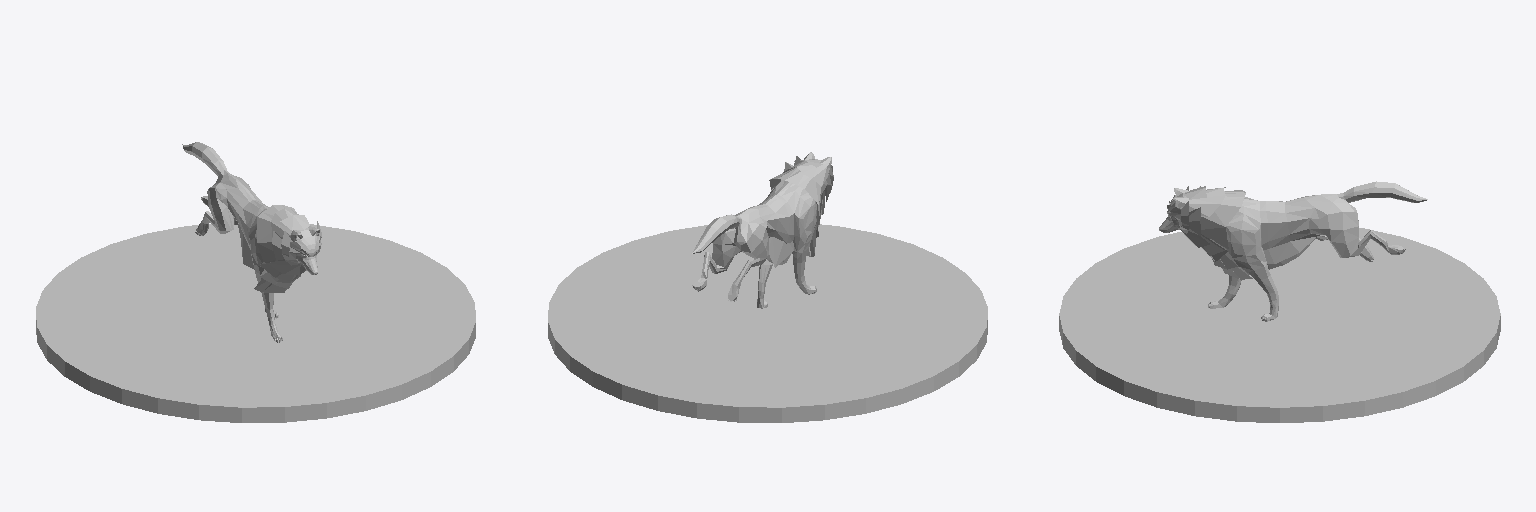
The model's file is Wolf_0002.obj.
3 views of the same model, side by side, from view 1: azimuth 30°, elevation 25°; view 2: azimuth 150°, elevation 25°; view 3: azimuth 270°, elevation 25° (orthographic).
Visible parts, largest first — view 1: Circle, Wolf1_Material__wolf_col_tga_0, Wolf2_fur__fella3_jpg_001_0; view 2: Circle, Wolf1_Material__wolf_col_tga_0, Wolf2_fur__fella3_jpg_001_0; view 3: Circle, Wolf1_Material__wolf_col_tga_0, Wolf2_fur__fella3_jpg_001_0.
Part boxes in pixels (bbox=[...]): Circle: bbox=[36, 224, 475, 422]; Wolf1_Material__wolf_col_tga_0: bbox=[182, 142, 319, 342]; Wolf2_fur__fella3_jpg_001_0: bbox=[238, 205, 321, 292]; Circle: bbox=[548, 224, 987, 422]; Wolf1_Material__wolf_col_tga_0: bbox=[692, 152, 831, 308]; Wolf2_fur__fella3_jpg_001_0: bbox=[762, 156, 833, 267]; Circle: bbox=[1059, 228, 1500, 422]; Wolf1_Material__wolf_col_tga_0: bbox=[1159, 181, 1427, 321]; Wolf2_fur__fella3_jpg_001_0: bbox=[1167, 186, 1316, 279].
Size of the model in its own units: 1.69 by 0.6259 by 1.69.